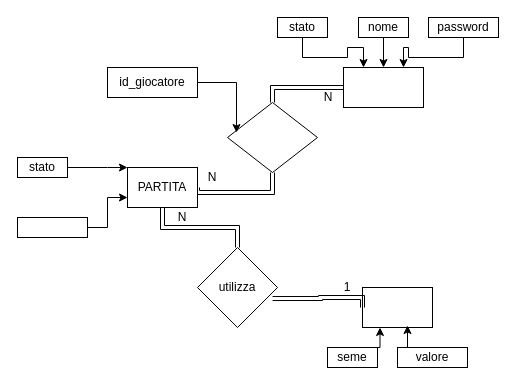
Image size: 516x385. Some labels were removed from this diagram. The shapes that lost their labels are listed below. From the top down, each one's centre as x and y in pixels, then its label:
At (383,87): "UTENTE".
At (272,137): "gioca".
At (52,227): "id_partita".
At (397,307): "CARTA".
